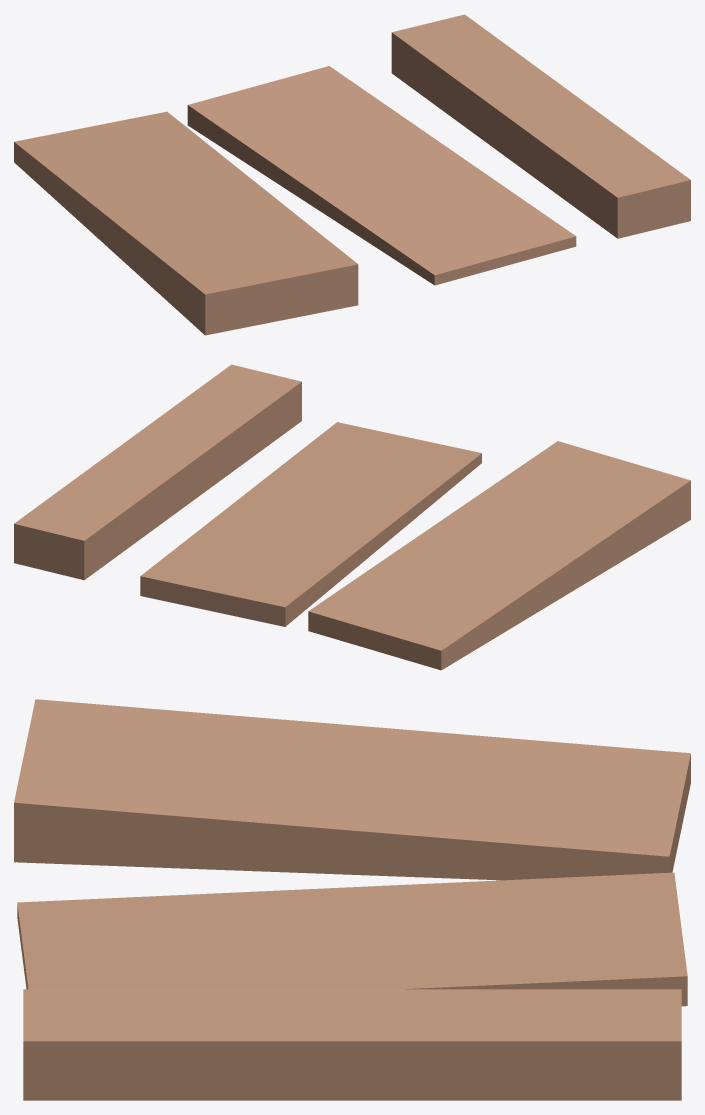
File: path_woodEnd.glb
3 renders of one model, top to bottom at view 1: azimuth 30°, elevation 25°; view 2: azimuth 150°, elevation 25°; view 3: azimuth 270°, elevation 25°, orthographic. The views are drawn at different scales.
Parts seen in each view (by area): view 1: path_woodEnd; view 2: path_woodEnd; view 3: path_woodEnd.
Boxes of the visible parts, x1,y1,x2,y2 form: path_woodEnd: (14, 14, 690, 335); path_woodEnd: (14, 364, 690, 670); path_woodEnd: (14, 699, 690, 1100).
Bounding box in the file's own units: 0.6148 × 0.05 × 0.5144.
